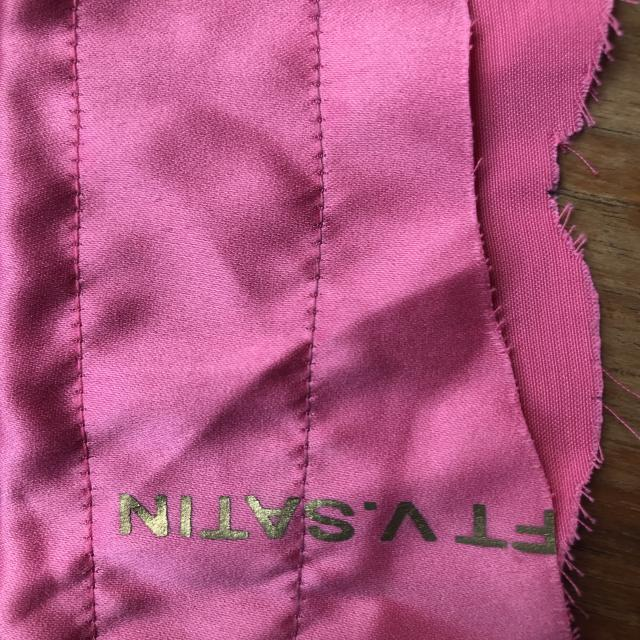good: (68, 323, 96, 433)
